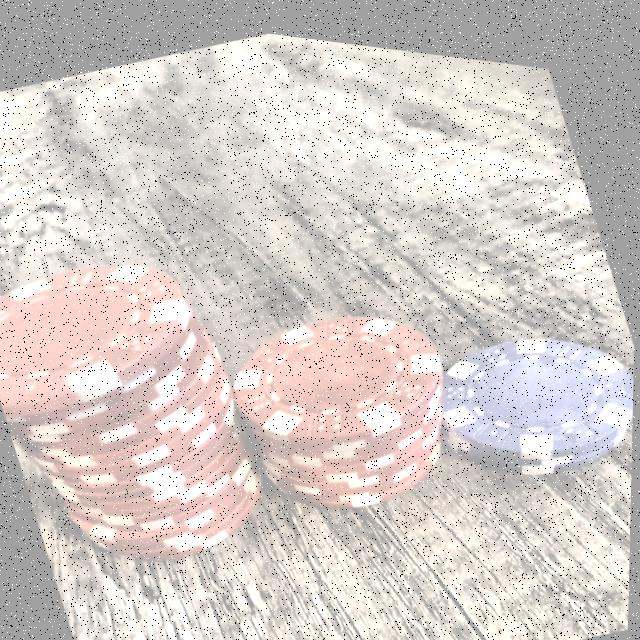Chip: (0, 176, 317, 604), (194, 236, 506, 562), (414, 271, 636, 499)
